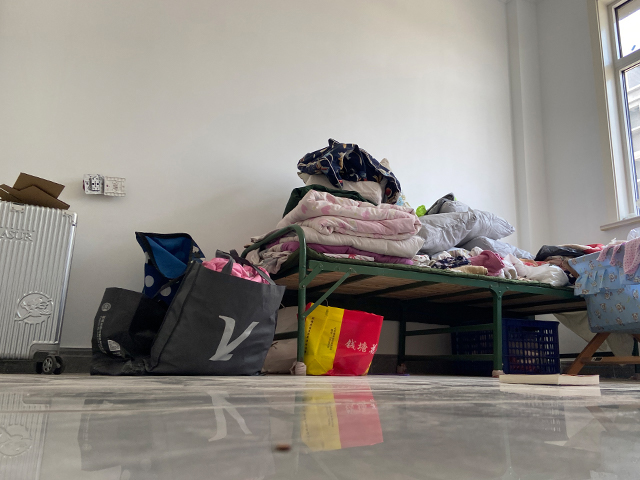bed: (241, 224, 574, 378)
book: (499, 372, 601, 388)
